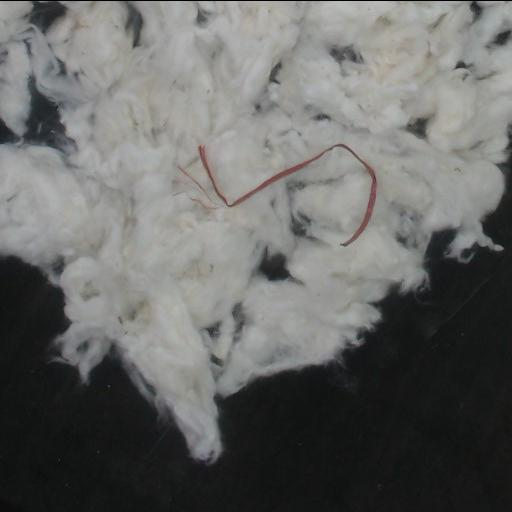conveyor belt: (0, 162, 511, 512), (26, 83, 62, 144), (259, 252, 289, 280), (31, 3, 63, 28), (0, 122, 16, 142)
cotton: (0, 1, 511, 461)
thread: (178, 143, 377, 246)
